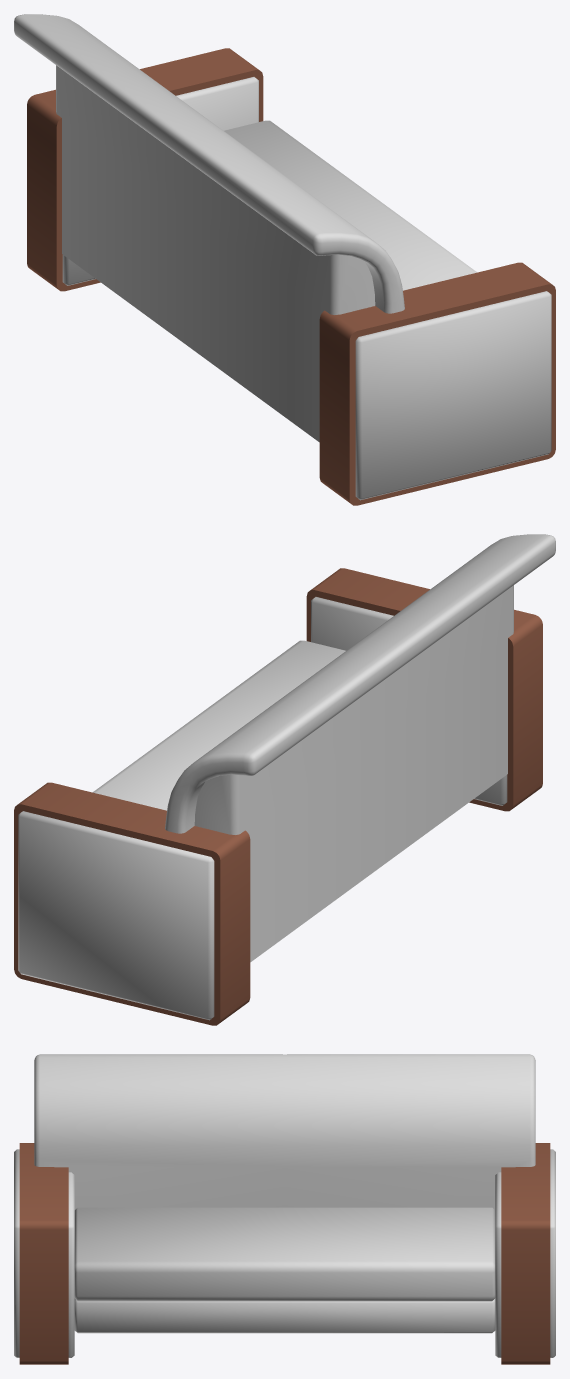
Rendered from Couch.fbx.
3 renders of one model, top to bottom at view 1: azimuth 30°, elevation 25°; view 2: azimuth 150°, elevation 25°; view 3: azimuth 270°, elevation 25°, orthographic. The views are drawn at different scales.
Visible parts, largest first — view 1: Couch; view 2: Couch; view 3: Couch.
Part boxes in pixels (box(x1,y1,x2,y2)): Couch: box(14, 14, 555, 505); Couch: box(14, 534, 555, 1025); Couch: box(14, 1054, 555, 1364).
Bounding box in the file's own units: 0.78 × 0.848 × 1.88.
